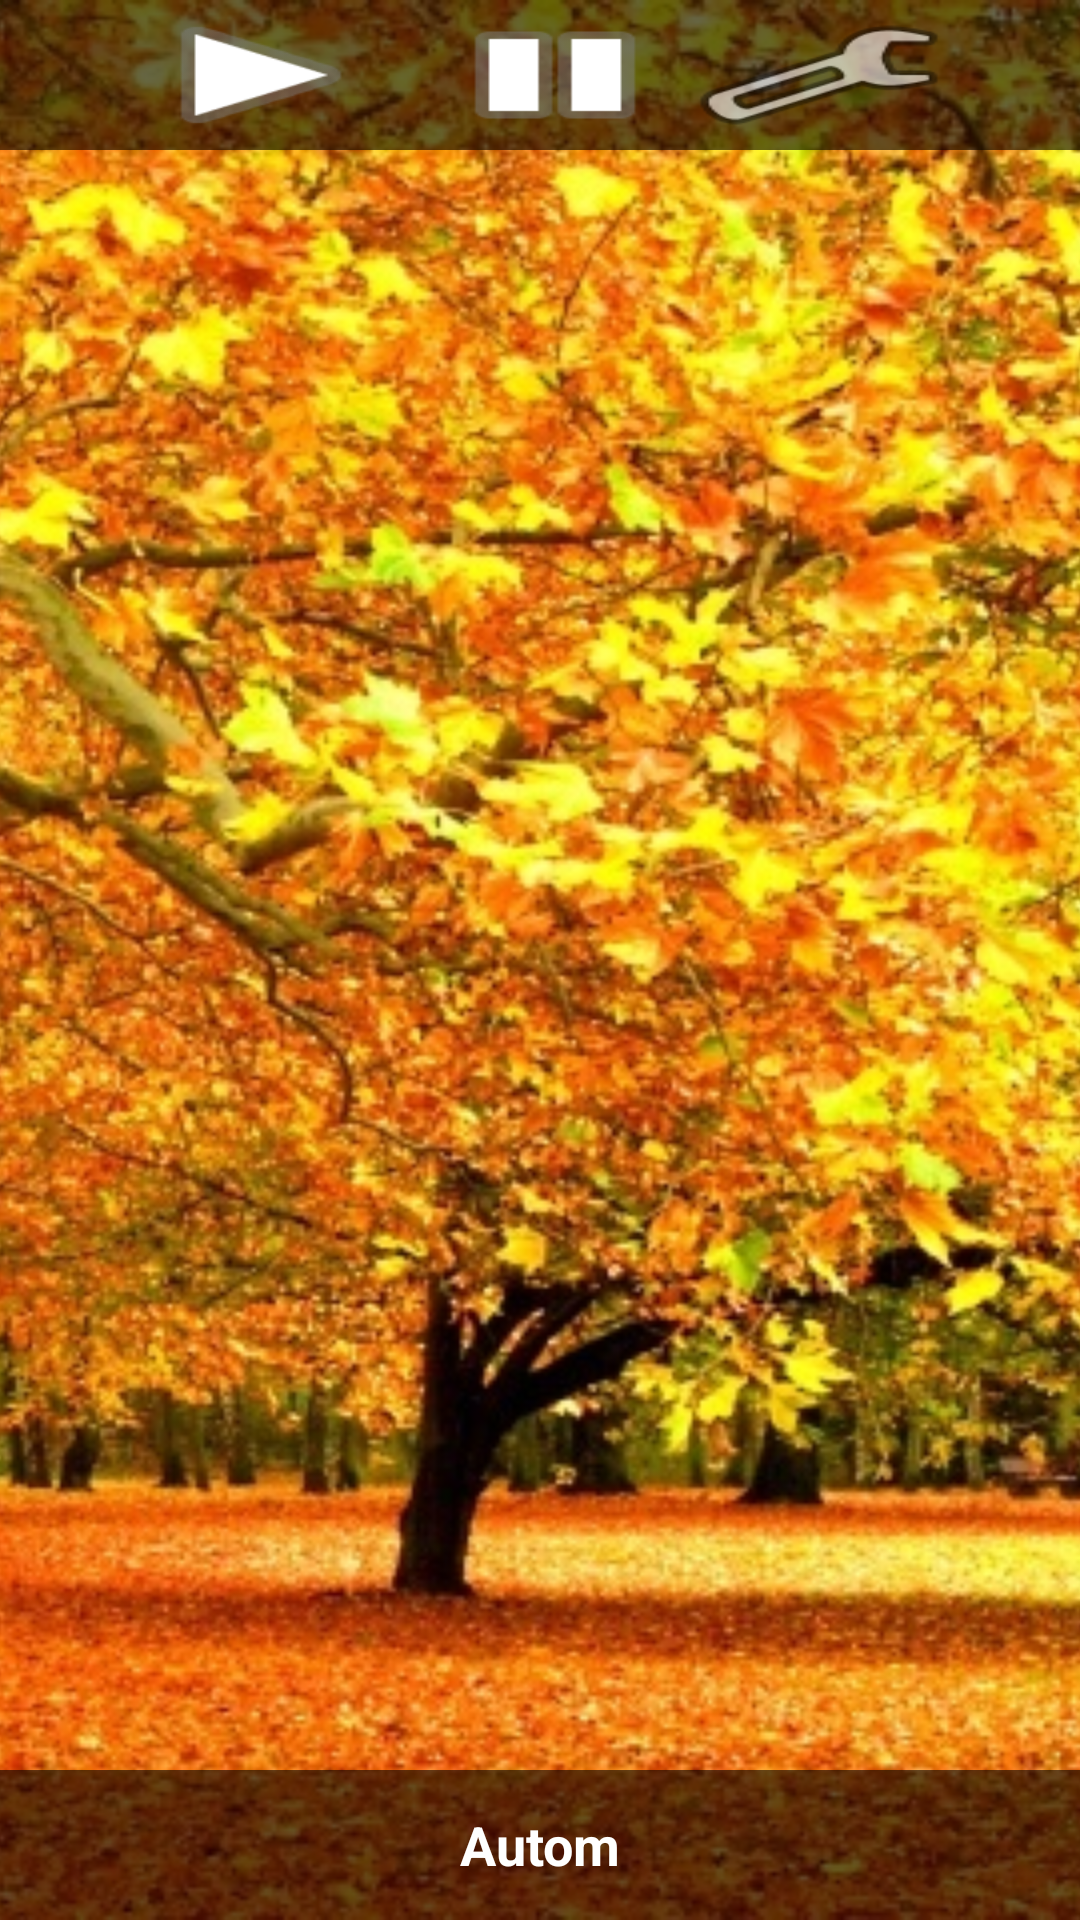

Point at icon controls on the screen. Image size 1080*1920, points as (x=x, y=y).
manage: (x=819, y=75)
pause: (x=555, y=75)
play: (x=261, y=75)
